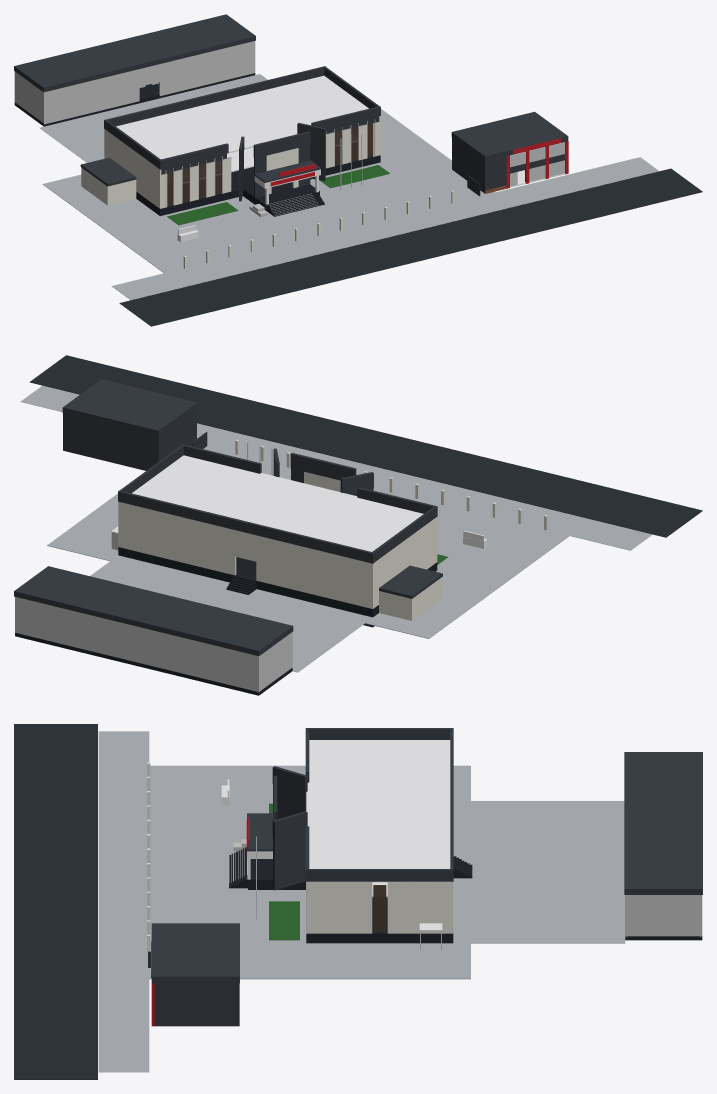
File: turon_odob_ilm_3d.obj
3 views of the same model, one above another, from view 1: azimuth 30°, elevation 25°; view 2: azimuth 150°, elevation 25°; view 3: azimuth 270°, elevation 25° (orthographic). The views are drawn at different scales.
Parts seen in each view (by area): view 1: Paving_Courtyard, Charcoal_Parapet, Asphalt_Road, White_Trim, Dorm_Cream, Stucco_Cream, Granite_Tsokol, Bronze_Glass, Lawn_Green, Clear_Glass, Gray_Trim, Red_Sign (+1 smaller); view 2: Paving_Courtyard, Charcoal_Parapet, Asphalt_Road, Stucco_Cream, White_Trim, Dorm_Cream, Granite_Tsokol; view 3: Paving_Courtyard, Charcoal_Parapet, Asphalt_Road, White_Trim, Stucco_Cream, Granite_Tsokol, Dorm_Cream, Lawn_Green, Bronze_Glass.
Part boxes in pixels (x1,y1,x2,y2): Paving_Courtyard: (39,74,658,300); Charcoal_Parapet: (14,14,568,201); Asphalt_Road: (119,168,702,326); White_Trim: (106,75,565,242); Dorm_Cream: (14,41,255,124); Stucco_Cream: (81,116,454,268); Granite_Tsokol: (14,73,380,216); Bronze_Glass: (167,123,372,206); Lawn_Green: (167,165,389,225); Clear_Glass: (510,142,564,186); Gray_Trim: (165,119,375,207); Red_Sign: (270,138,561,186); Paving_Courtyard: (20,385,652,672); Charcoal_Parapet: (14,379,442,655); Asphalt_Road: (29,355,702,537); Stucco_Cream: (118,439,547,620); White_Trim: (111,455,487,563); Dorm_Cream: (15,597,292,692); Granite_Tsokol: (15,547,437,695); Paving_Courtyard: (98,731,625,1072); Charcoal_Parapet: (148,728,702,1026); Asphalt_Road: (14,724,97,1079); White_Trim: (221,740,450,931); Stucco_Cream: (147,762,453,951); Granite_Tsokol: (229,847,702,943); Dorm_Cream: (625,895,702,937); Lawn_Green: (269,803,299,940); Bronze_Glass: (373,885,386,931).
Bounding box in the file's own units: 120 × 14.11 × 98.3.
